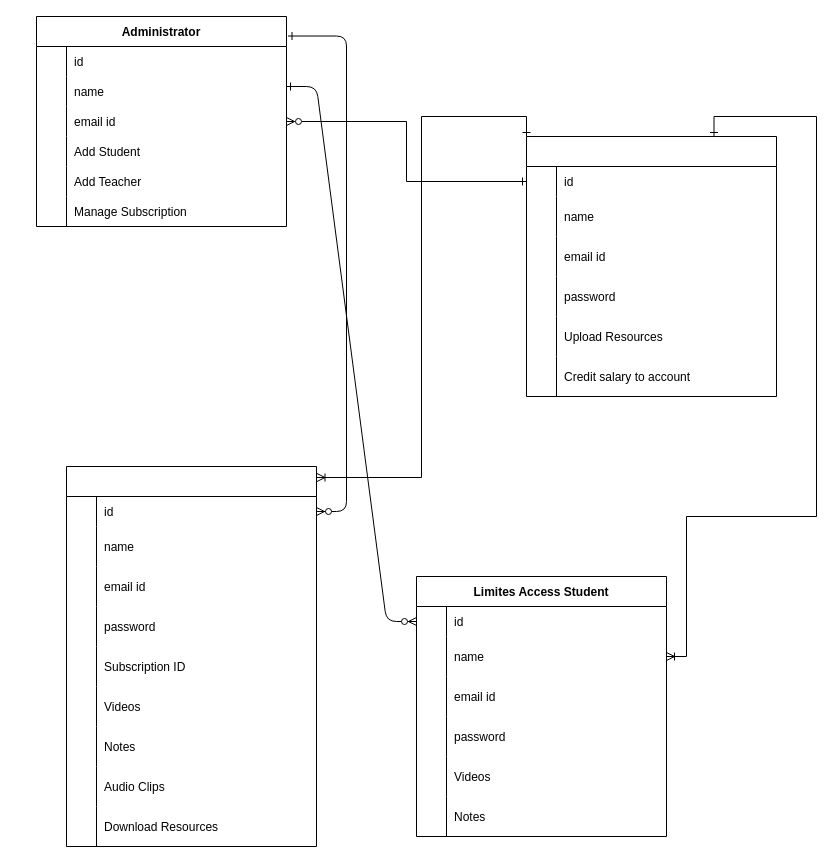
This 833x863 diagram has some shape labels left out. The box of each missing label's shape, as (x1, y1, x2, y2) in pixels:
Full Access Student: (66, 466, 316, 846)
Teacher: (526, 136, 776, 396)
